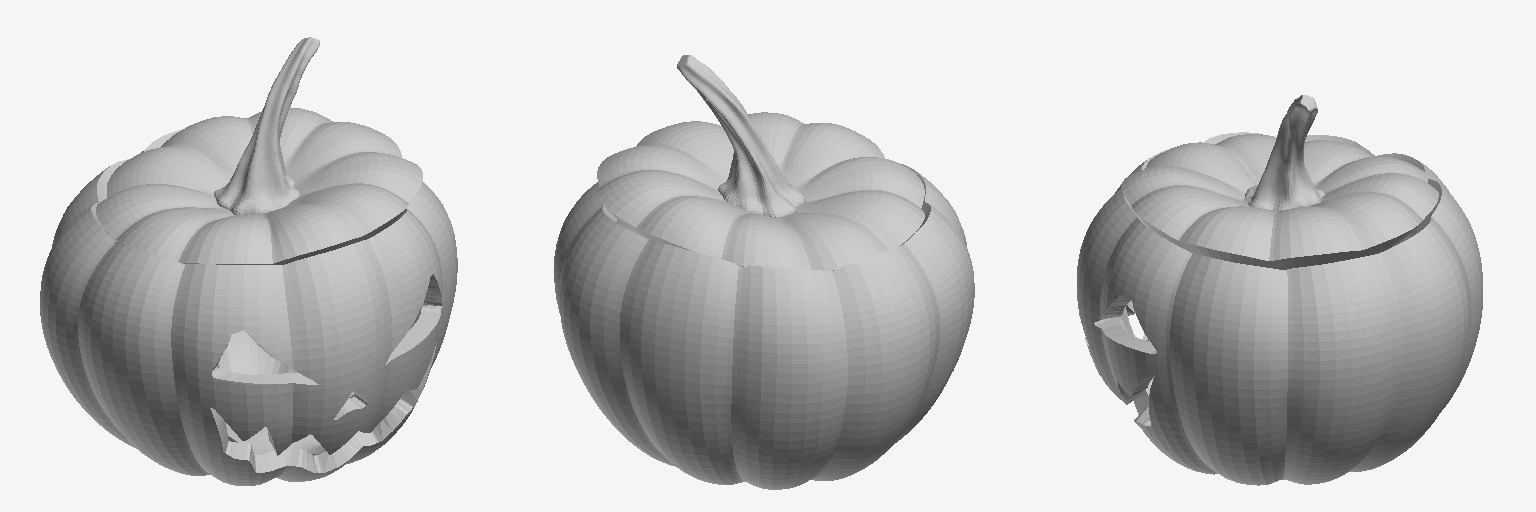
The model's file is pumpkin face.obj.
3 renders of one model, left to right at view 1: azimuth 30°, elevation 25°; view 2: azimuth 150°, elevation 25°; view 3: azimuth 270°, elevation 25°, orthographic.
Parts seen in each view (by area): view 1: pumpkin_Circle, cut_pumpkin_Circle.001, Circle.003; view 2: pumpkin_Circle, cut_pumpkin_Circle.001, Circle.003; view 3: pumpkin_Circle, cut_pumpkin_Circle.001, Circle.003.
Part boxes in pixels (x1,y1,x2,y2): pumpkin_Circle: (40, 129, 457, 485); cut_pumpkin_Circle.001: (96, 107, 422, 264); Circle.003: (214, 37, 319, 214); pumpkin_Circle: (554, 164, 974, 489); cut_pumpkin_Circle.001: (596, 112, 924, 270); Circle.003: (677, 55, 805, 217); pumpkin_Circle: (1077, 132, 1482, 485); cut_pumpkin_Circle.001: (1121, 134, 1438, 269); Circle.003: (1243, 95, 1324, 209).
Bounding box in the file's own units: 0.5067 × 0.5175 × 0.4924.